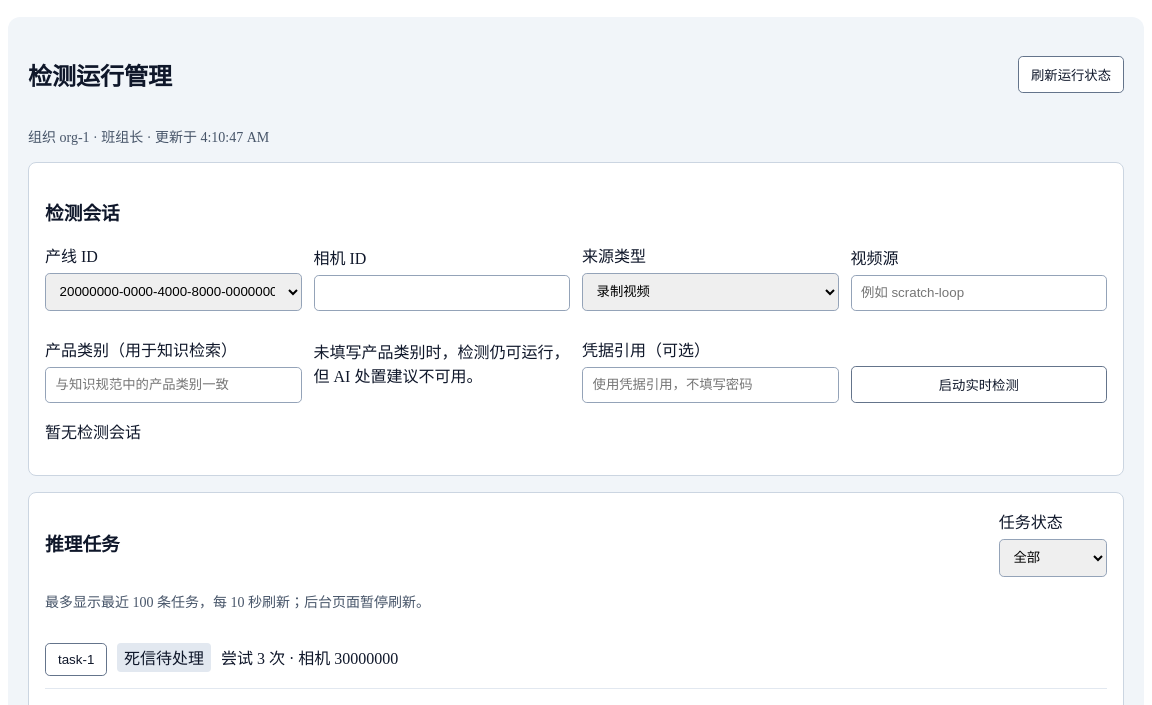
Test: does not claim replay success after a server conflict
Click the button with aria-label "查看任务 task-1" at (76,660), box [45,643,107,676]
(page scrolled)
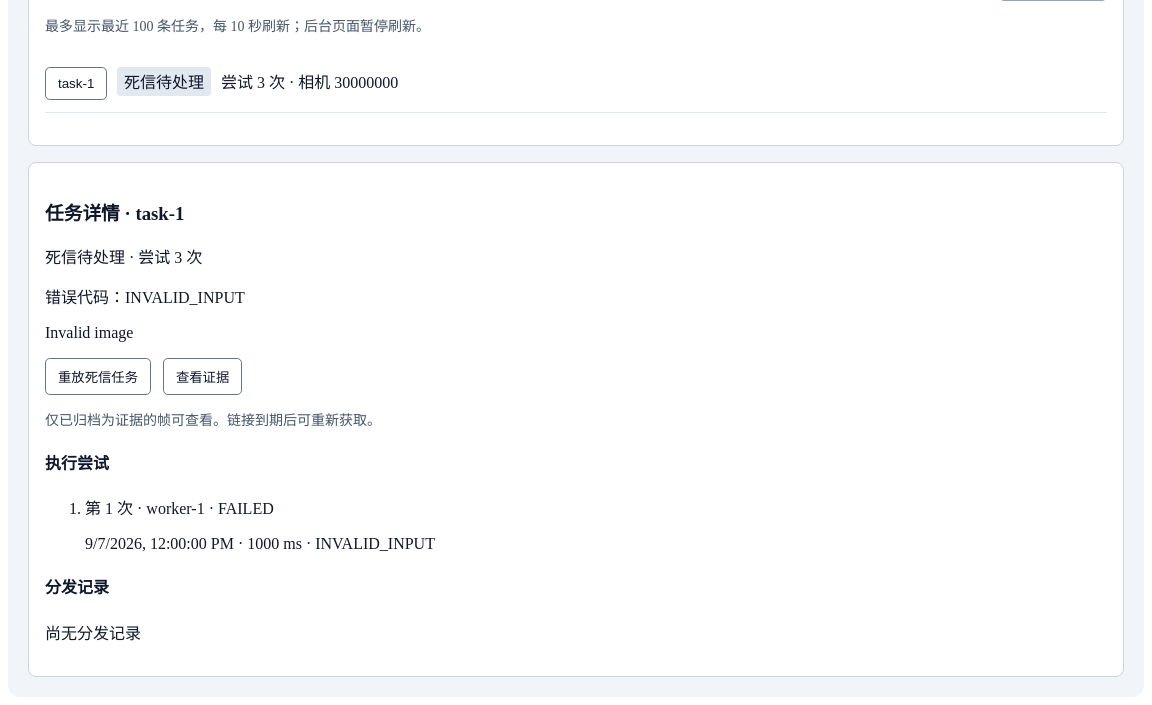
Click the button "重放死信任务" at (98,376), box [45,358,151,395]
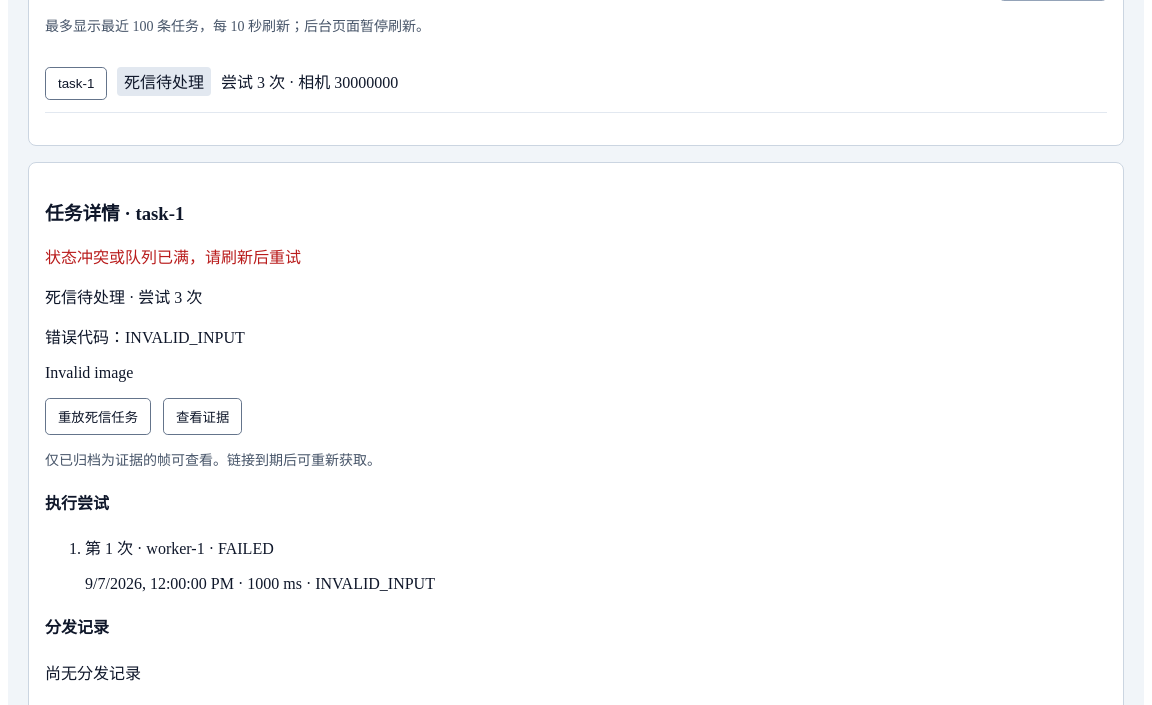
Expected: the text "状态冲突或队列已满，请刷新后重试" is shown, [45,249,301,266]
